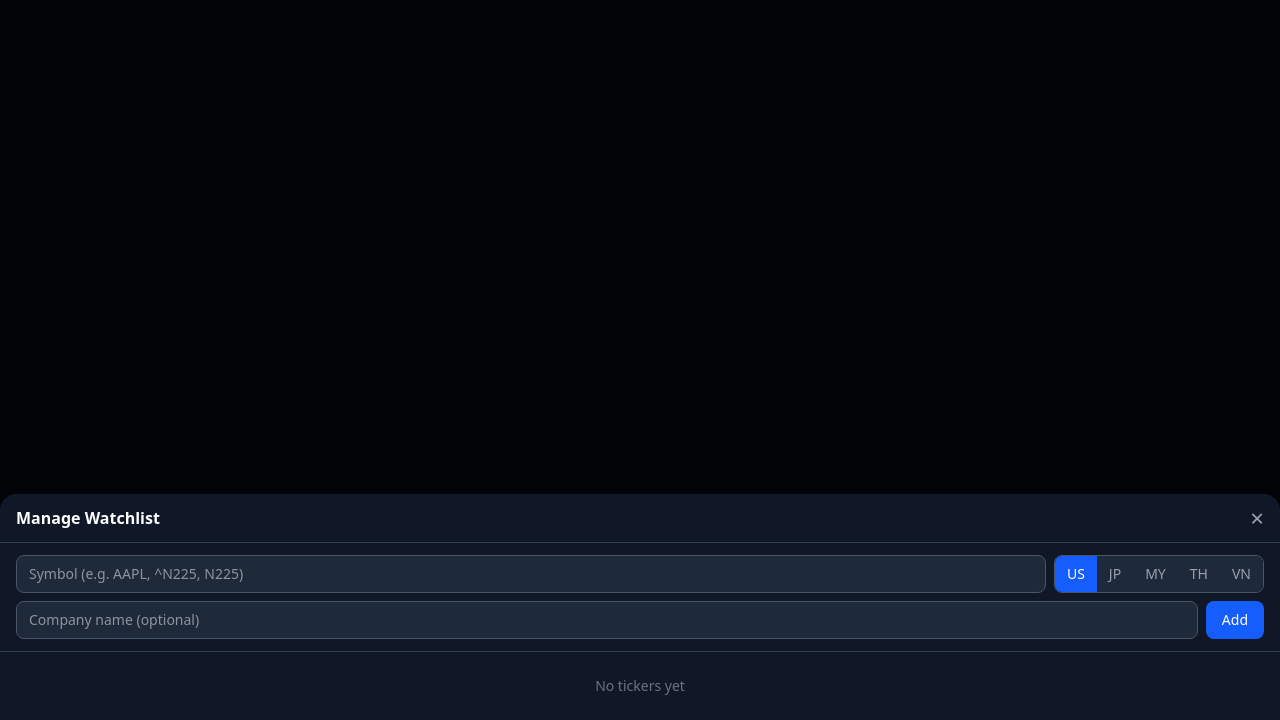
TickerManager › shows error when adding empty symbol
Click the button "Add" at x=1235, y=620, box x1=1206 y1=601 x2=1264 y2=639
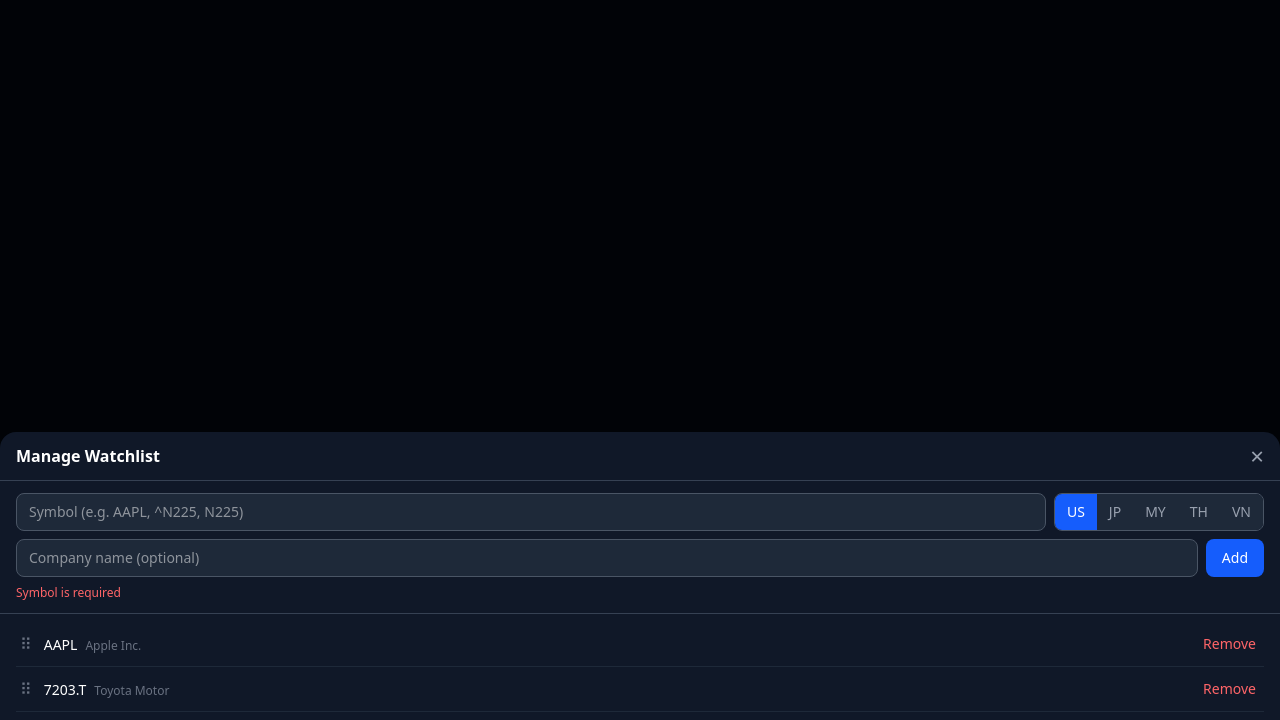
Check: the text "Symbol is required" is shown, box x1=16 y1=584 x2=121 y2=601
